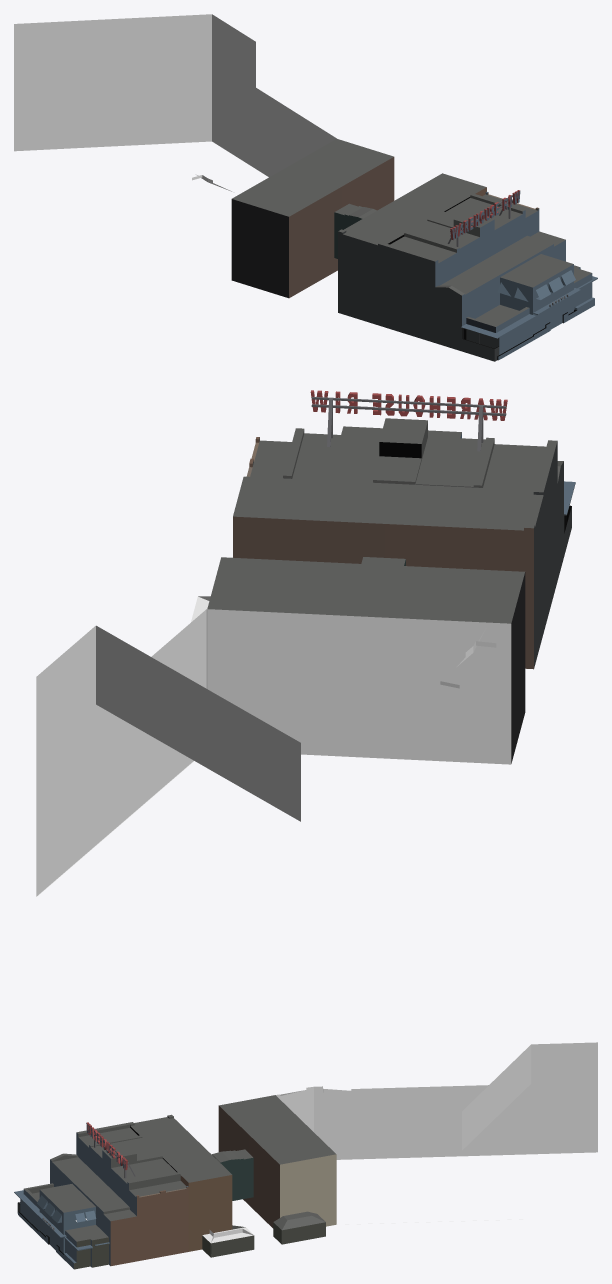
File: warehouse-row.glb
3 views of the same model, one above another, from view 1: azimuth 30°, elevation 25°; view 2: azimuth 150°, elevation 25°; view 3: azimuth 270°, elevation 25° (orthographic). The views are drawn at different scales.
Parts seen in each view (by area): view 1: LOD0; view 2: LOD0; view 3: LOD0.
Boxes of the visible parts, box(x1,y1,x2,y2) form: LOD0: box(14, 14, 597, 361); LOD0: box(36, 390, 575, 896); LOD0: box(14, 1042, 597, 1269).
Size of what is drawn, in the model's own units: 84.04 by 36.16 by 174.
2 materials, 2 textured.
